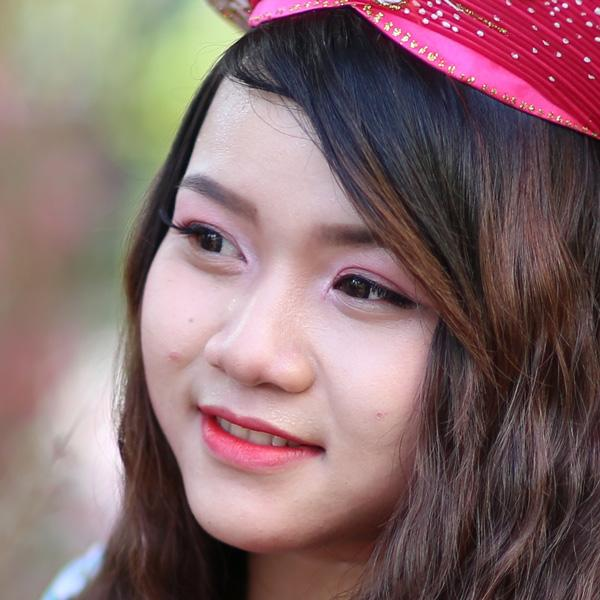Eyes: (316, 258, 420, 320), (169, 209, 254, 277)
